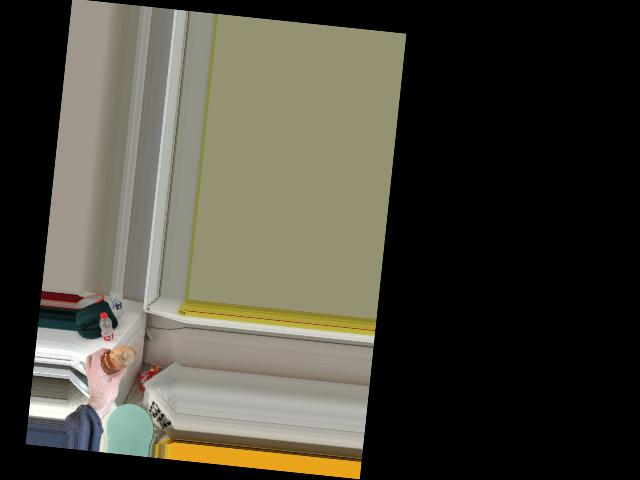sweet_potato: (102, 342, 135, 376)
